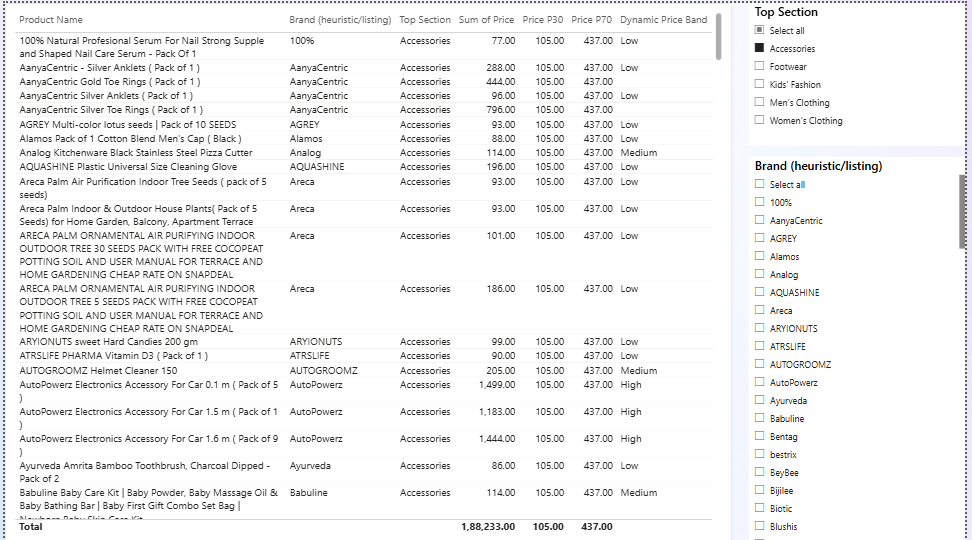

Layout of this report page (visuals, bound fields, positions):
{"tool":"powerbi","page":{"name":"Task 6","canvas":[1280,720],"ordinal":5},"visuals":[{"type":"tableEx","fields":{"Values":["snapdeal_products.Product Name","snapdeal_products.Brand (heuristic/listing)","snapdeal_products.Top Section","Sum(snapdeal_products.Price)","Rating Comparison.Price P30","Rating Comparison.Price P70","Rating Comparison.Dynamic Price Band"]},"box":[0,0,969.1,720.1],"z":0},{"type":"slicer","fields":{"Values":["snapdeal_products.Top Section"]},"box":[991.3,0,288.7,190.3],"z":1},{"type":"slicer","fields":{"Values":["snapdeal_products.Brand (heuristic/listing)"]},"box":[991.3,204.6,288.7,515.5],"z":2}]}

Visuals, with their boxes in screenshot pixels (x1, y1, x2, y2), scaled from the page's 1280x720 canvas onto the 972x540 screenshot:
tableEx - snapdeal_products.Product Name x snapdeal_products.Brand (heuristic/listing): rect(0, 0, 736, 539)
slicer - snapdeal_products.Top Section: rect(753, 0, 971, 143)
slicer - snapdeal_products.Brand (heuristic/listing): rect(753, 153, 971, 539)
